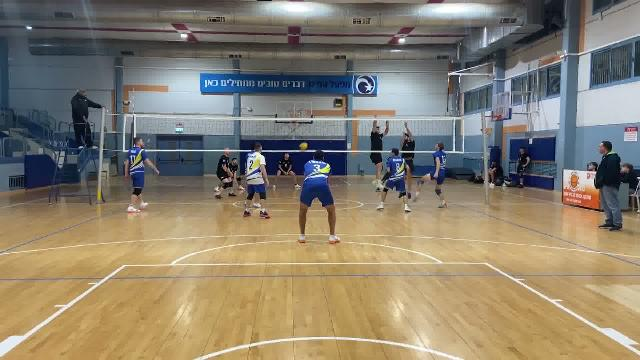ball: (299, 141, 309, 151)
